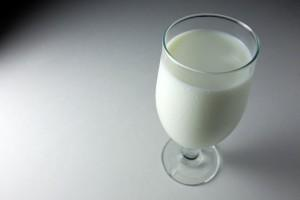produk_susu: (173, 24, 230, 137)
